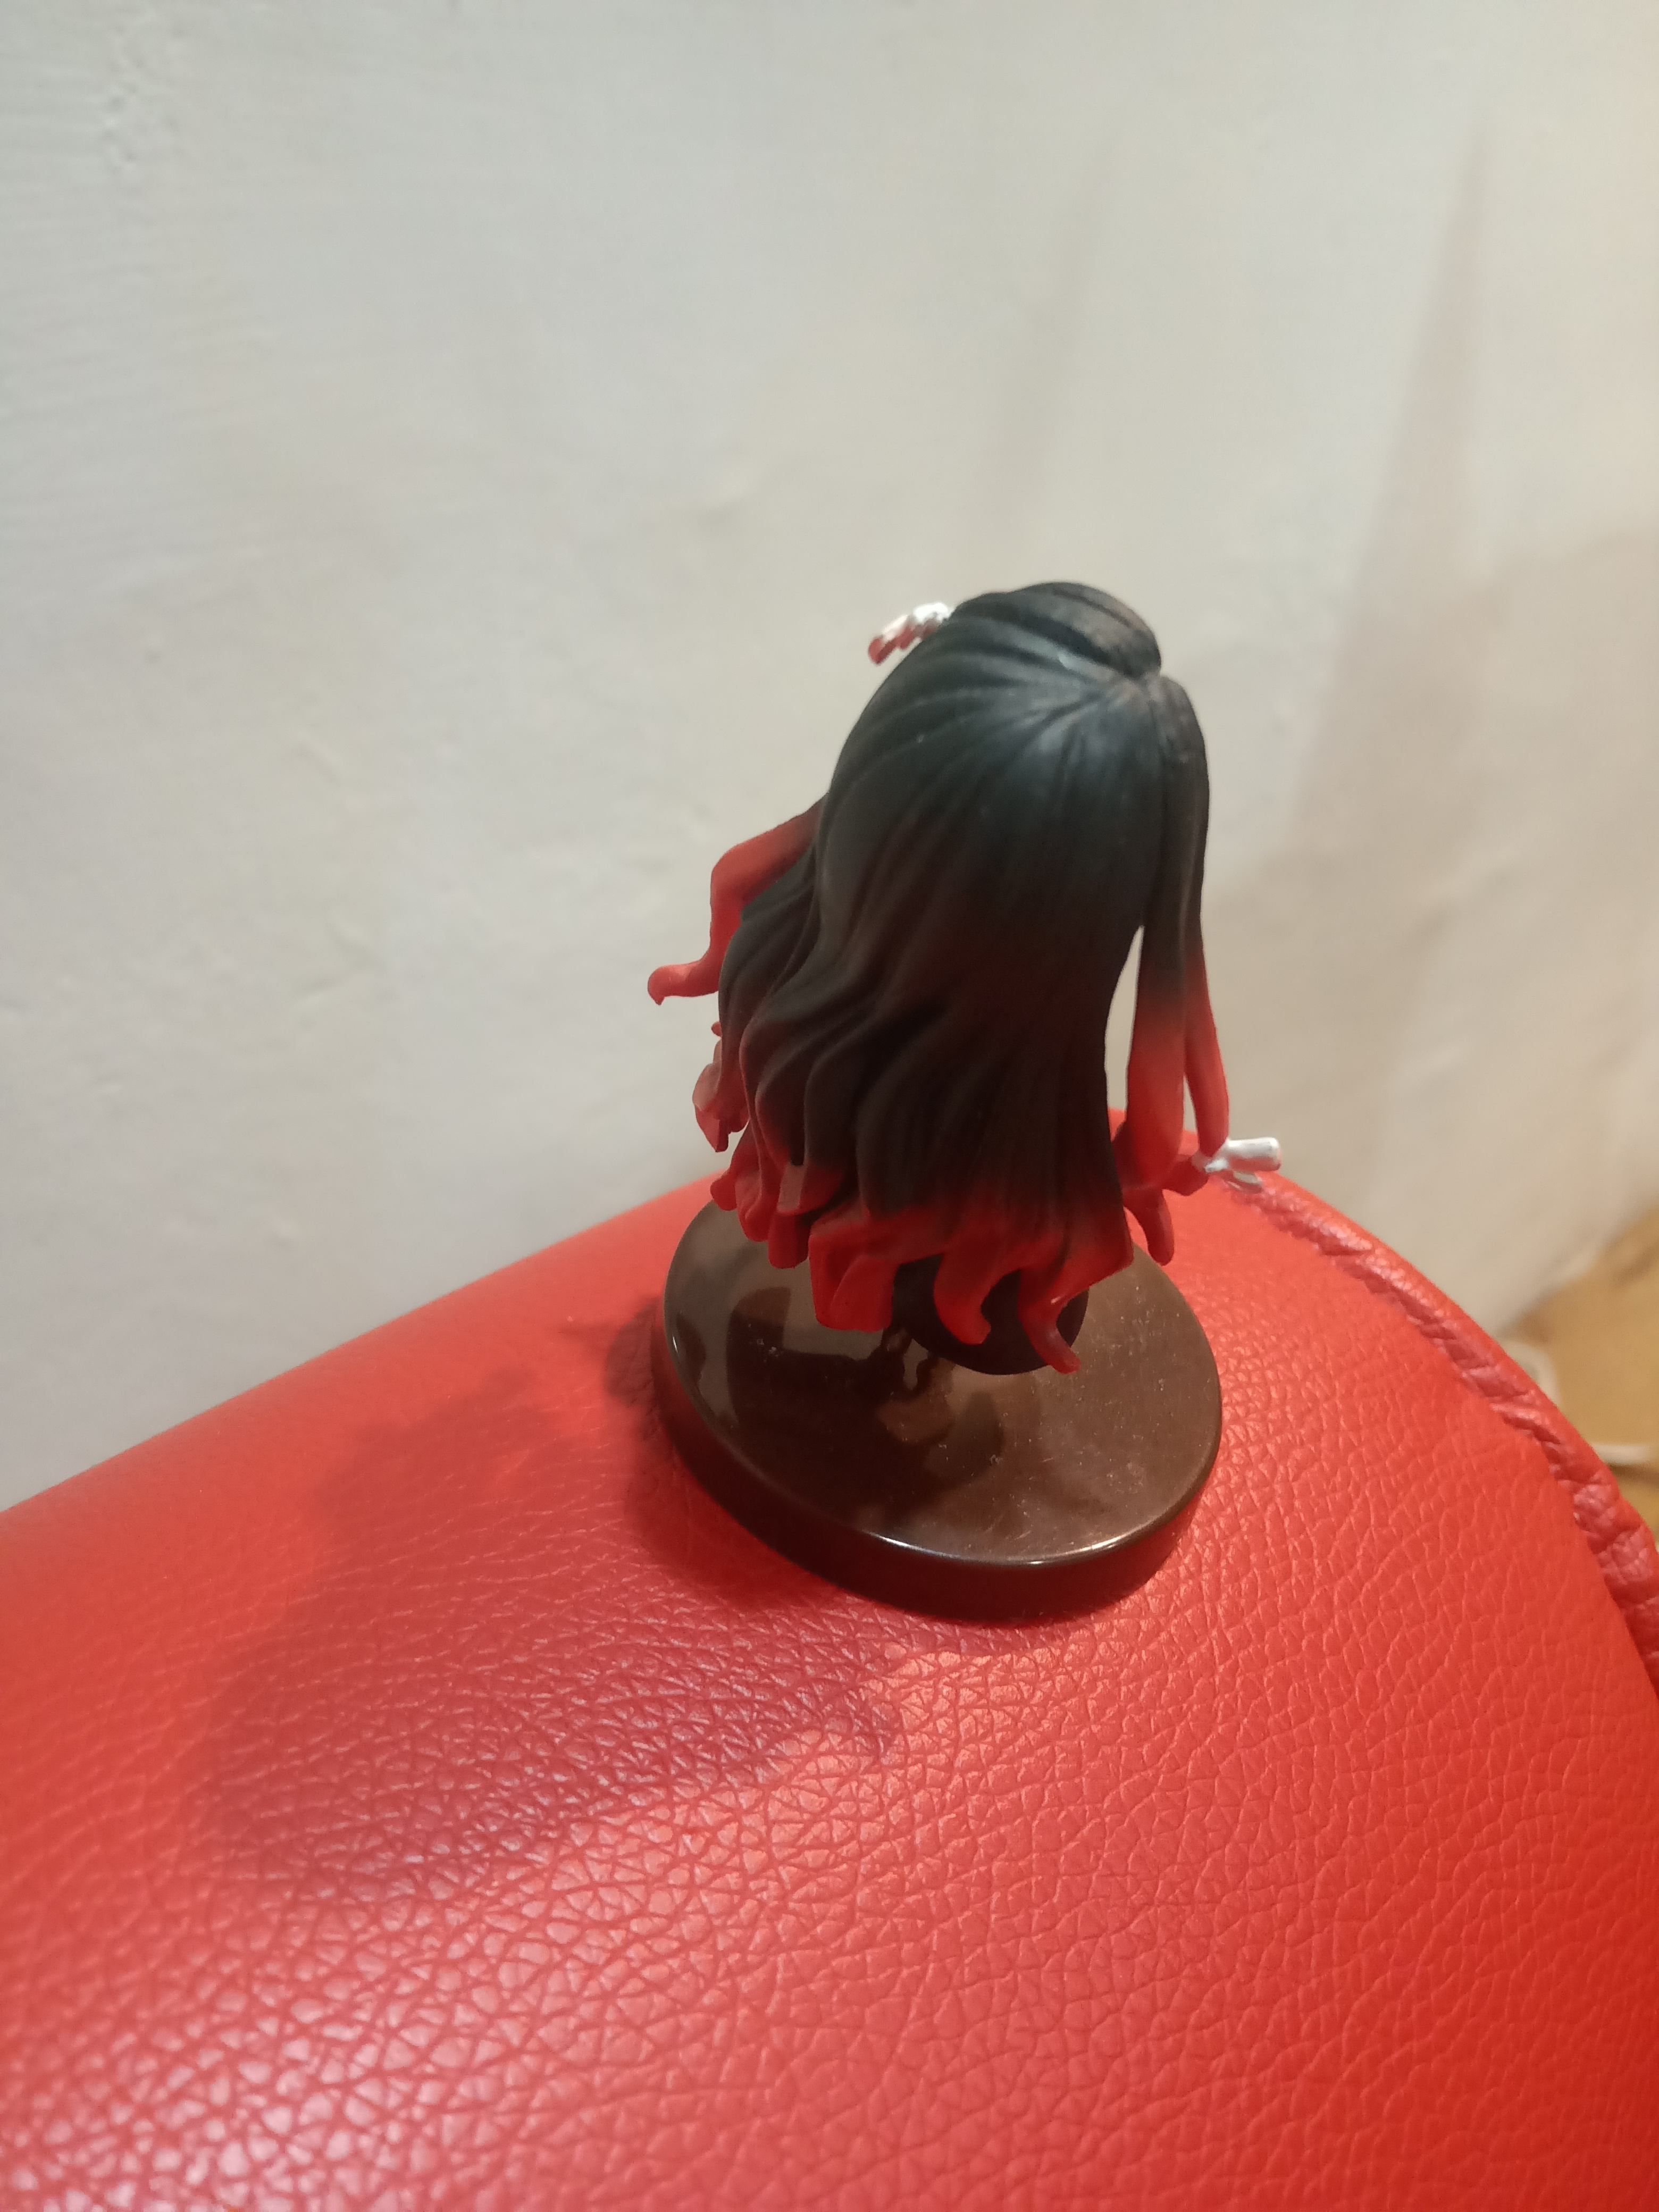Nezuko: (627, 559, 1293, 1639)
